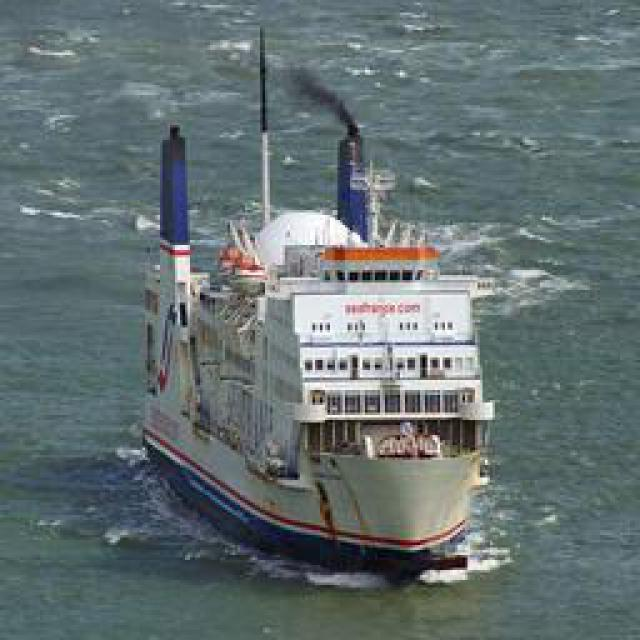Ship: (132, 195, 492, 583)
